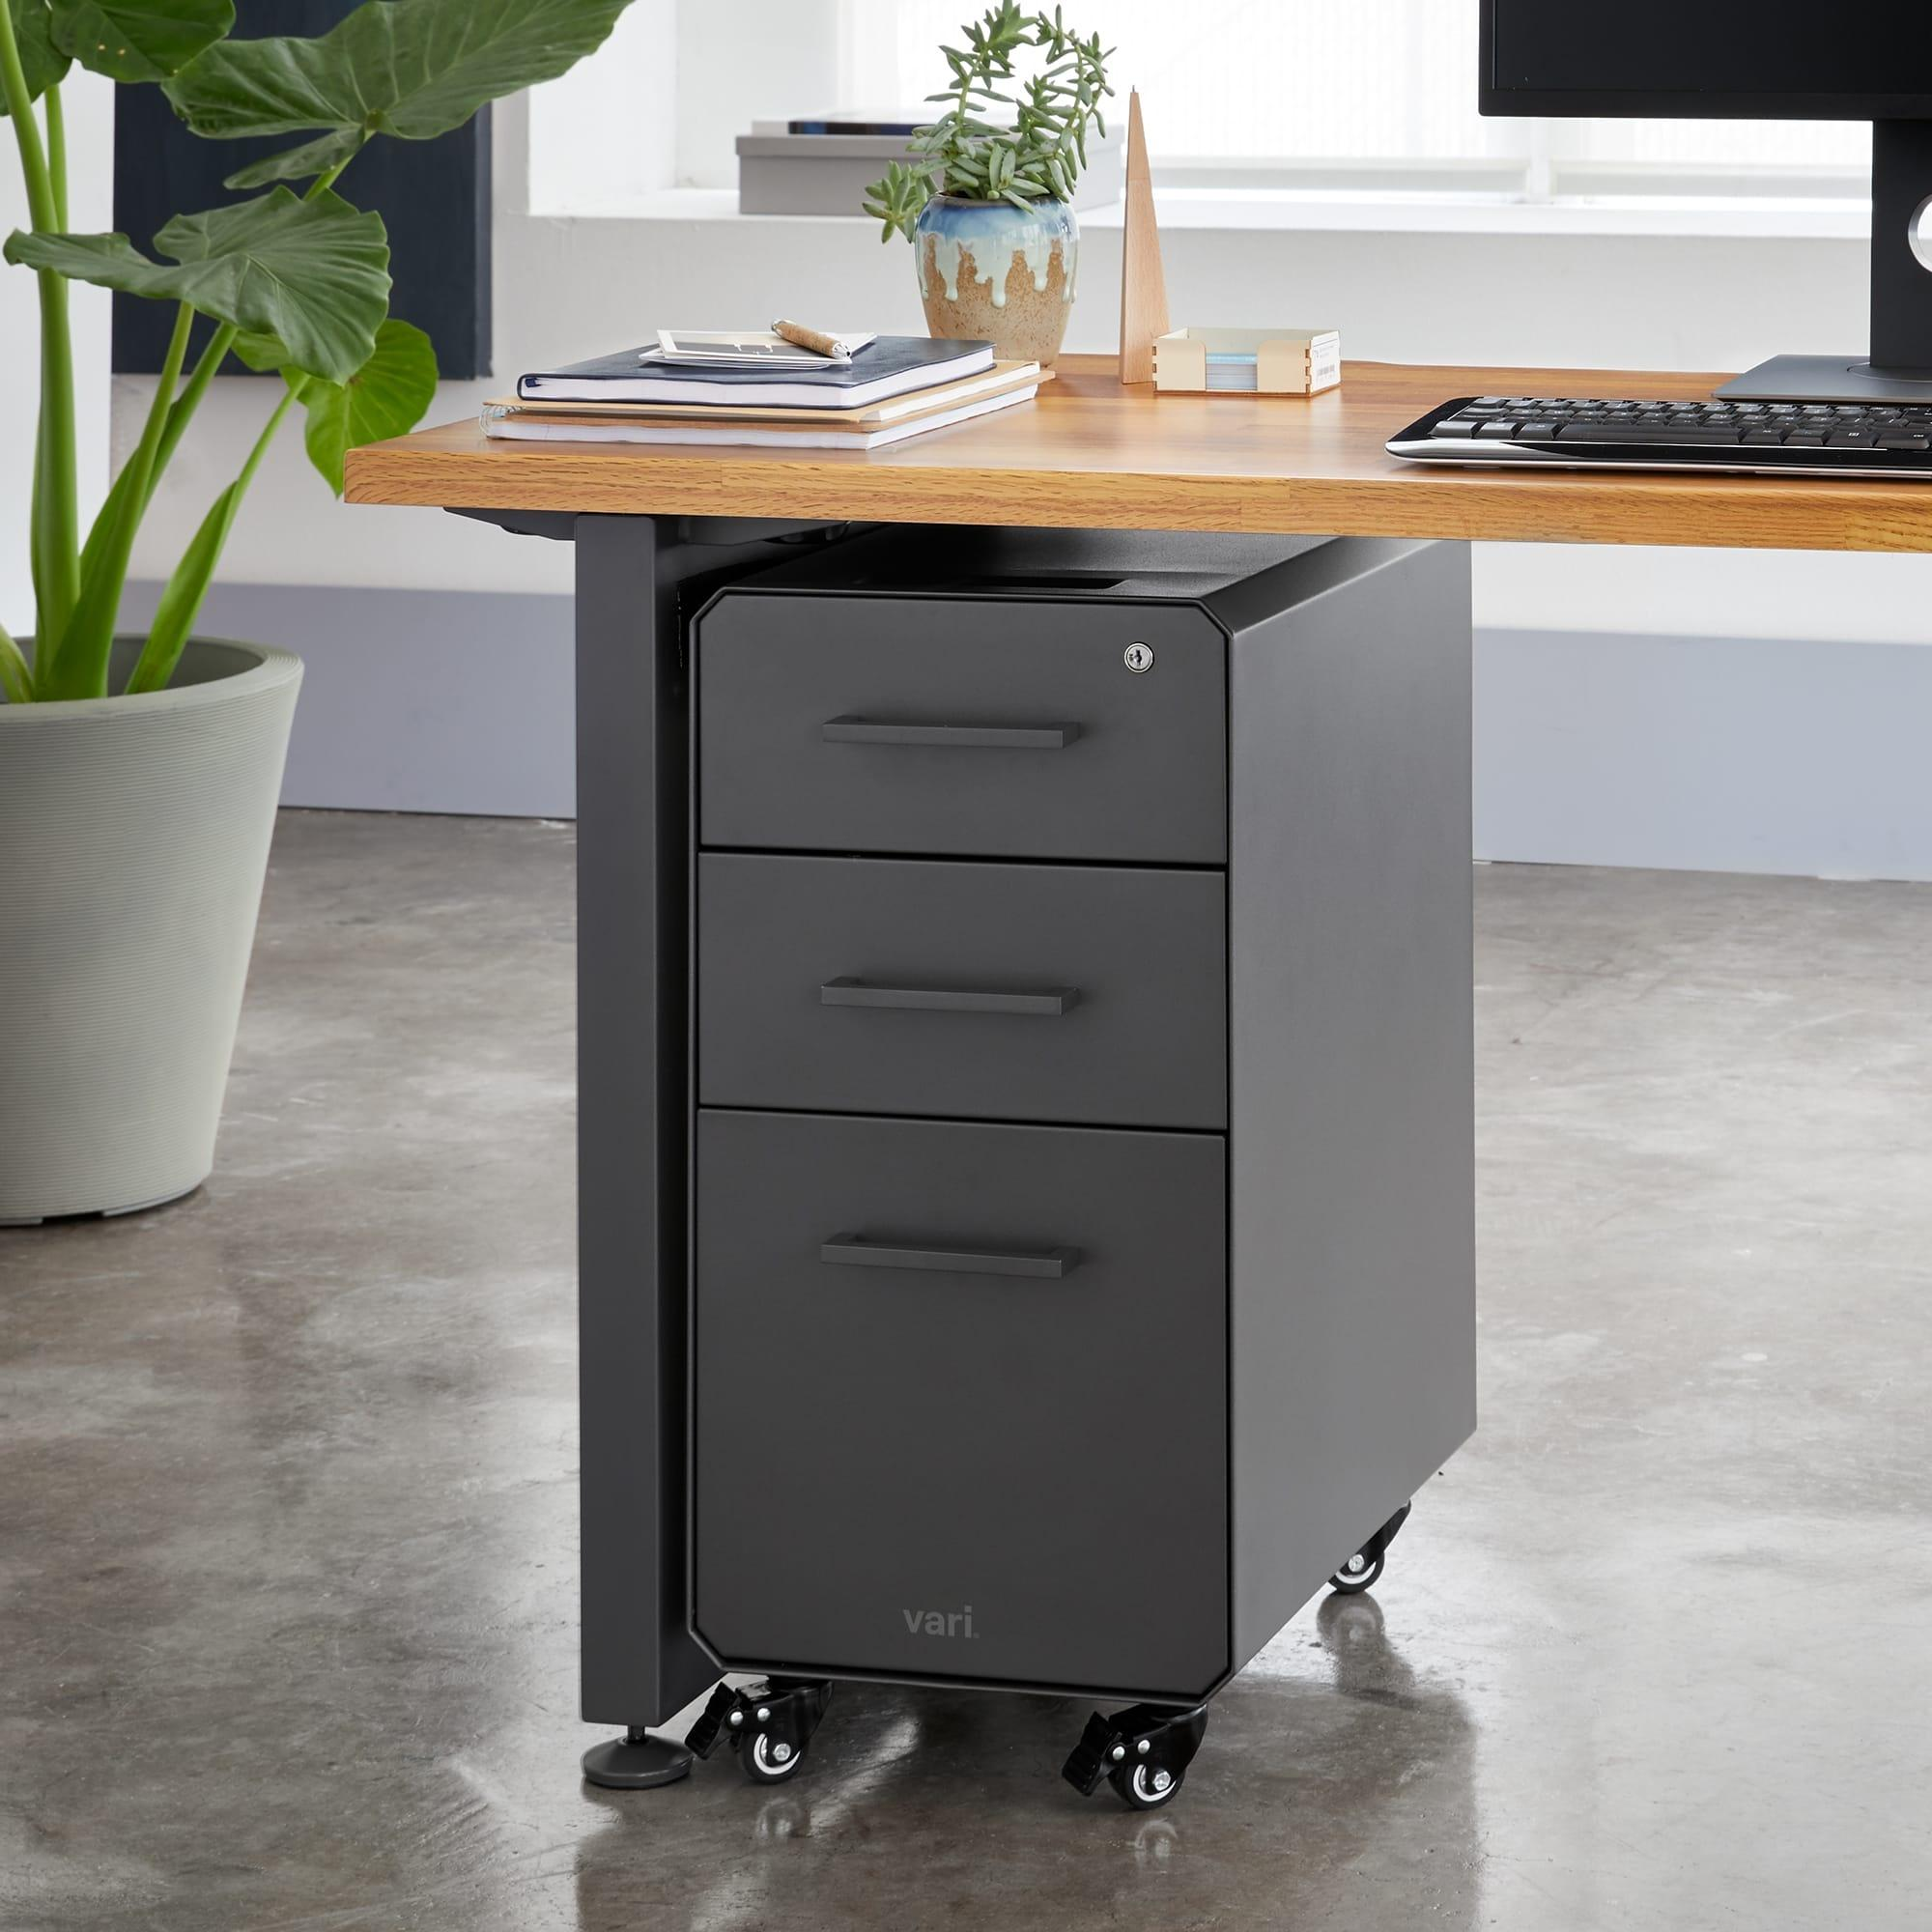Meja: (340, 356, 1930, 600)
Rak: (688, 584, 1233, 1706)
